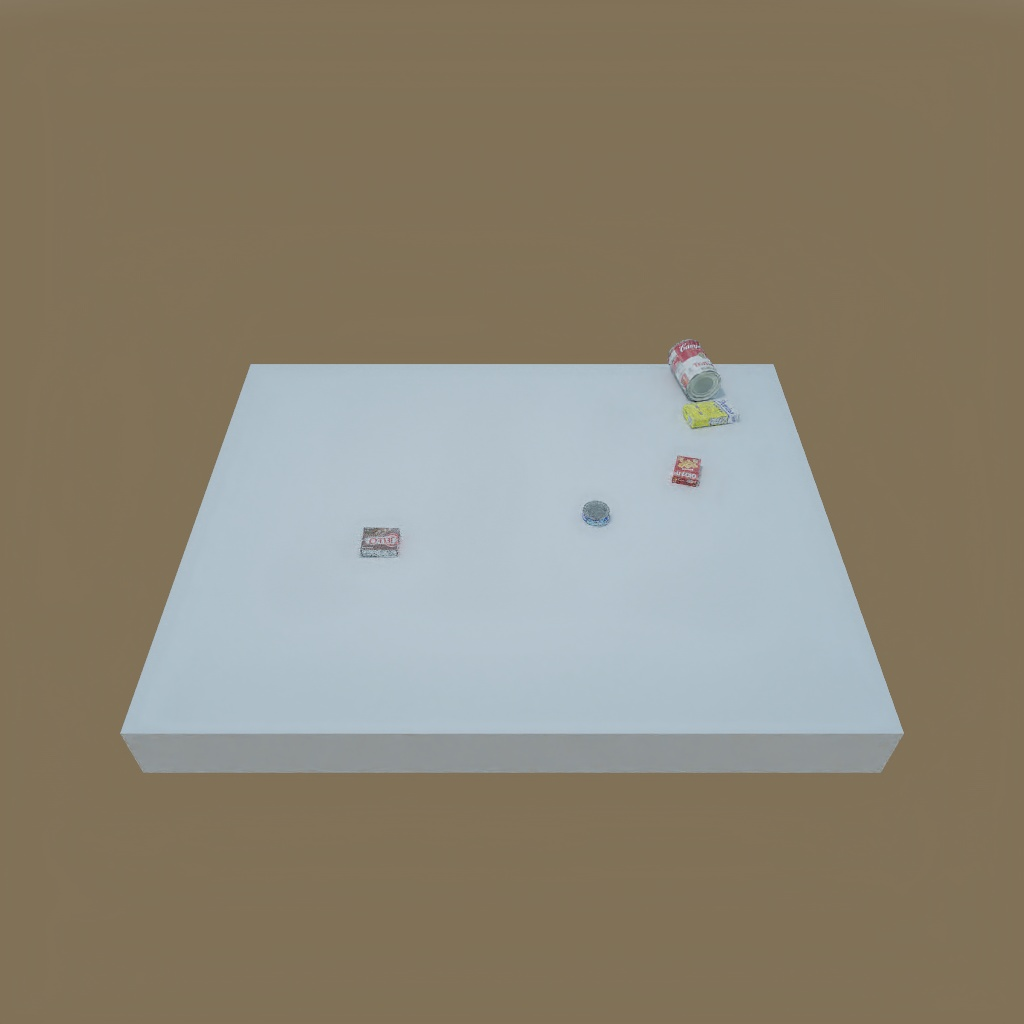pudding_box: (355, 521, 404, 563)
tomato_soup_can: (666, 338, 720, 401)
